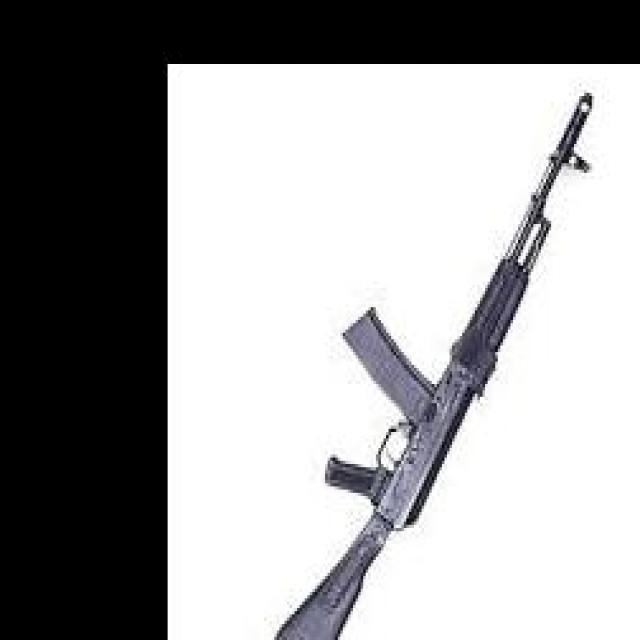weapon: (272, 90, 595, 640)
